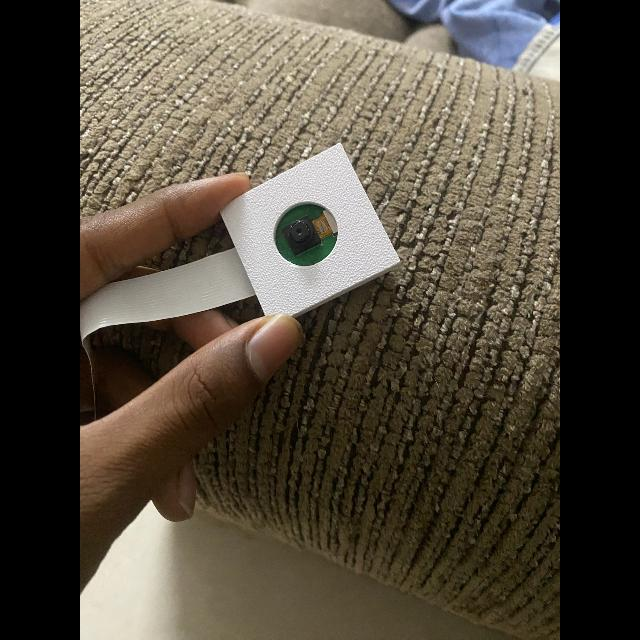RASPBERY PI CAM ENCLOSURE: (220, 144, 400, 318)
